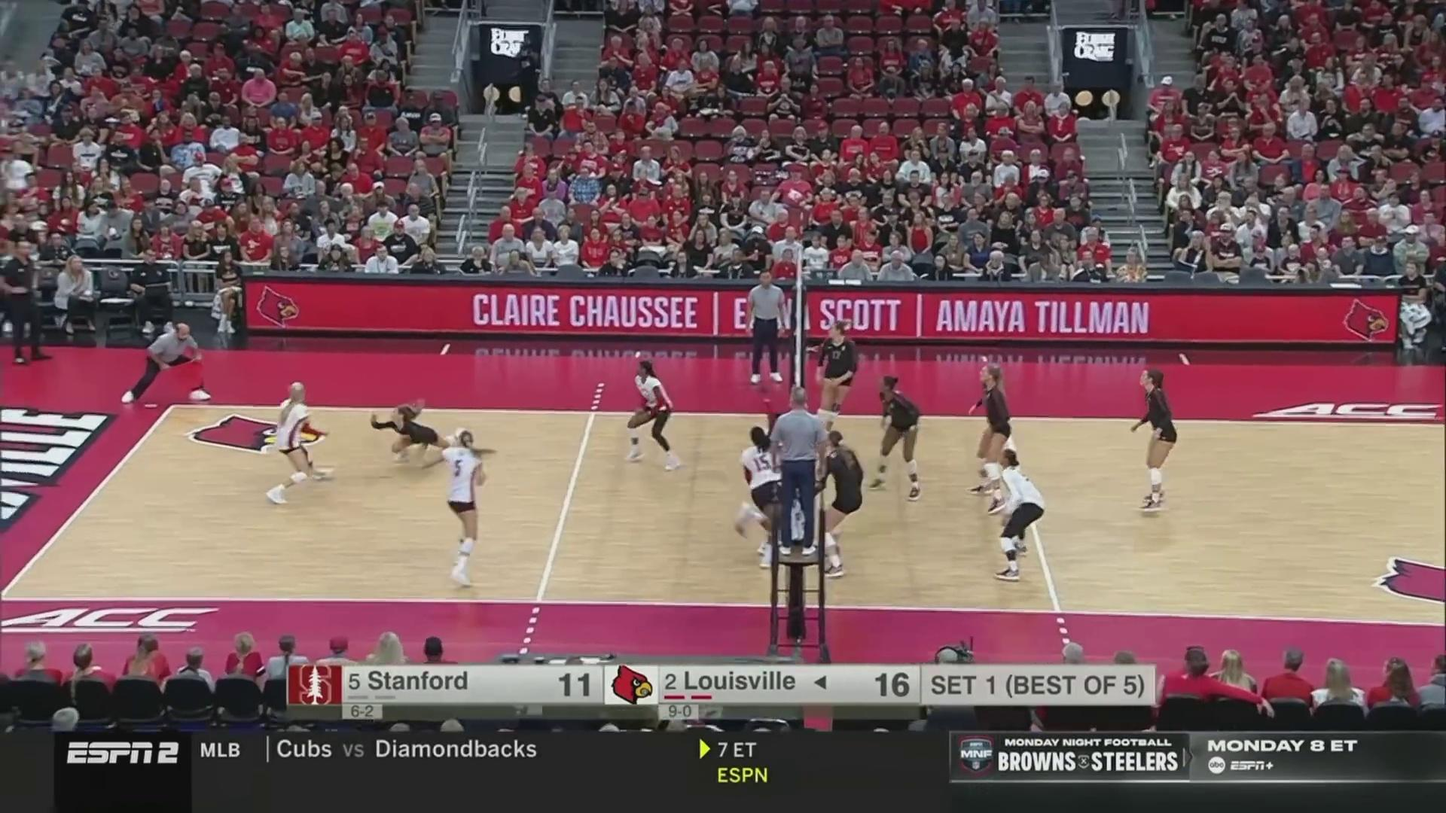player: (427, 432, 486, 588), (267, 382, 334, 505), (987, 447, 1046, 582), (1130, 368, 1181, 517), (817, 430, 865, 579), (370, 405, 489, 464), (968, 364, 1012, 513), (620, 360, 679, 470), (873, 375, 923, 501), (742, 425, 783, 569), (813, 323, 857, 445)
refree: (770, 386, 829, 561), (123, 321, 213, 406), (744, 269, 789, 385)
